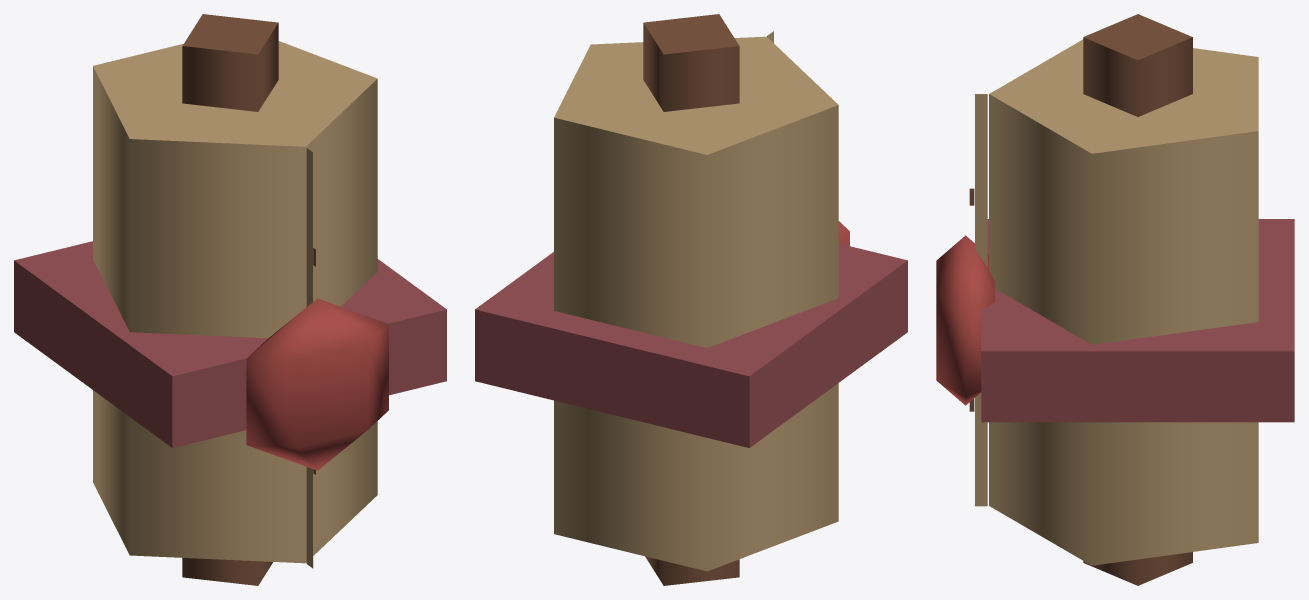
Rendered from scroll-3-lod2.glb.
The picture shows the model from 3 angles, left to right: view 1: azimuth 30°, elevation 25°; view 2: azimuth 150°, elevation 25°; view 3: azimuth 270°, elevation 25°; orthographic projection.
Visible parts, largest first — view 1: piece_whole, ReadingSheet; view 2: piece_whole; view 3: piece_whole, ReadingSheet.
Boxes of the visible parts, left/top/right/bottom form: piece_whole: left=14, top=14, right=446, bottom=585; ReadingSheet: left=306, top=147, right=315, bottom=568; piece_whole: left=475, top=14, right=907, bottom=585; piece_whole: left=936, top=14, right=1294, bottom=585; ReadingSheet: left=969, top=94, right=987, bottom=506.
Size of the model in its own units: 0.2 by 0.37 by 0.2287.
